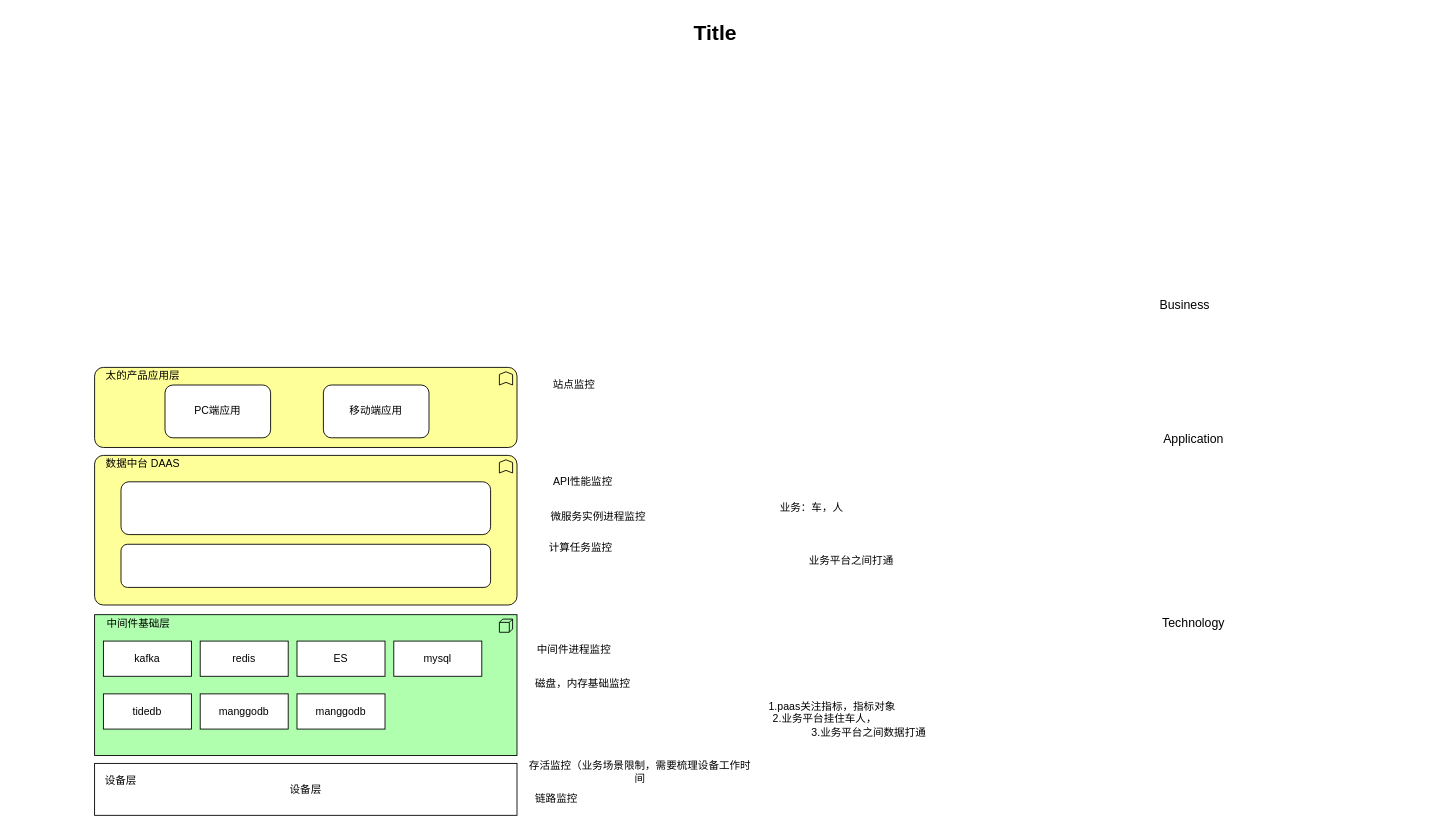
The diagram is 1429 pixels wide and 831 high, and some of its shapes have lost their labels. Each missing label, with the centre of its shape:
"paas业务" goes at (305,565).
"saas业务" goes at (305,508).
